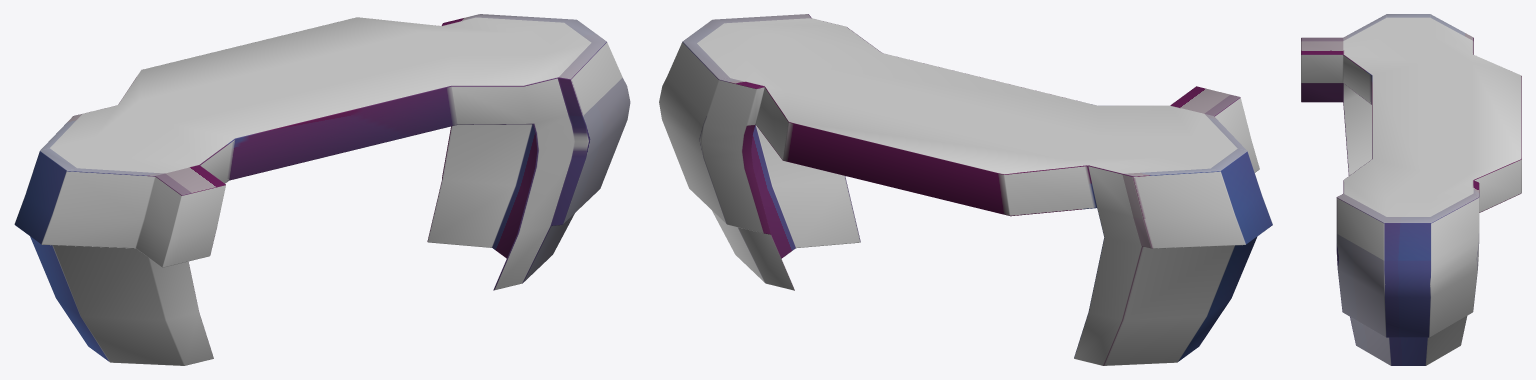
Rendered from consola.fbx.
3 views of the same model, side by side, from view 1: azimuth 30°, elevation 25°; view 2: azimuth 150°, elevation 25°; view 3: azimuth 270°, elevation 25° (orthographic). The views are drawn at different scales.
Visible parts, largest first — view 1: Mesa_consola; view 2: Mesa_consola; view 3: Mesa_consola.
Boxes of the visible parts, x1=… form: Mesa_consola: x1=14, y1=14, x2=630, y2=365; Mesa_consola: x1=659, y1=14, x2=1272, y2=365; Mesa_consola: x1=1301, y1=14, x2=1521, y2=365.
Size of the model in its own units: 56.82 by 18.98 by 23.29.
2 materials, 2 textured.
